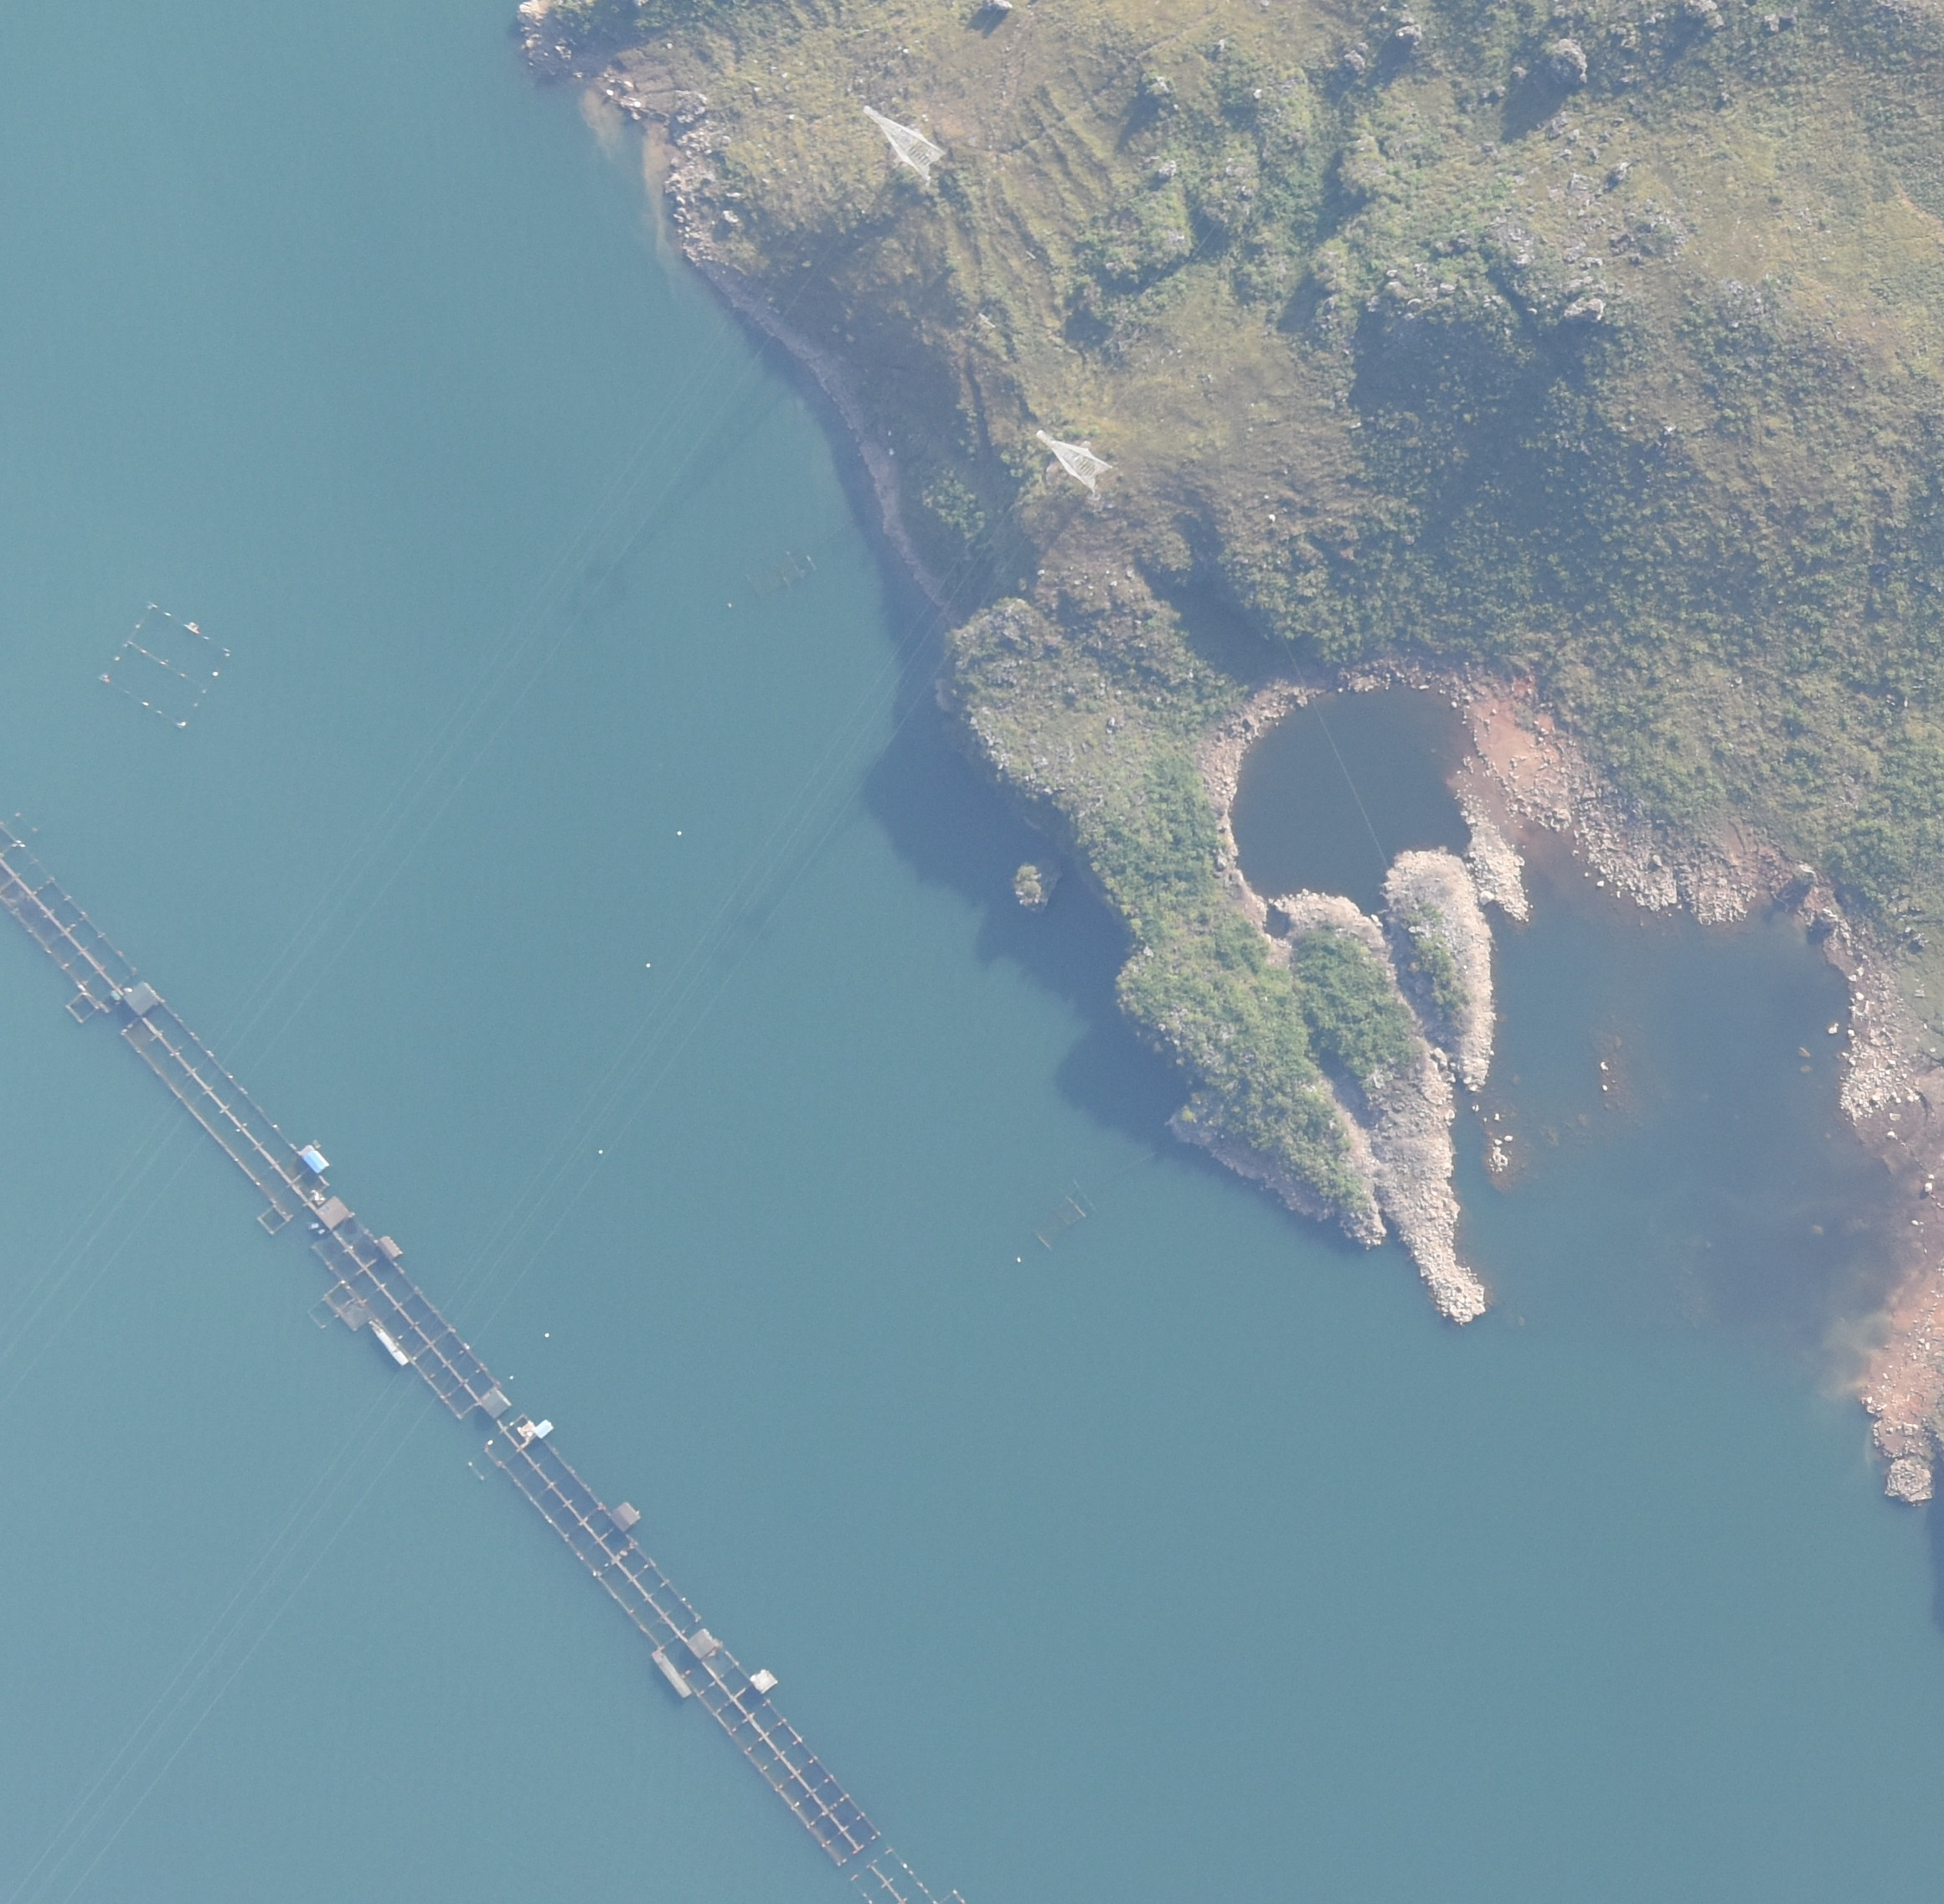cable-tower: (861, 103, 946, 192), (1034, 426, 1114, 495)
cultivation-mesh-cage: (682, 1652, 982, 1904), (468, 1417, 696, 1649), (122, 998, 326, 1235), (309, 1220, 498, 1426), (1, 820, 135, 1021), (98, 596, 232, 730), (732, 540, 829, 604), (1026, 1192, 1100, 1251)
pool: (1183, 660, 1525, 915)
prefabricated-house: (121, 982, 158, 1019), (317, 1195, 347, 1231), (609, 1500, 640, 1534), (297, 1143, 329, 1174), (479, 1388, 512, 1417), (749, 1666, 781, 1695), (688, 1629, 717, 1659), (374, 1235, 403, 1260), (533, 1420, 554, 1442)
ship: (650, 1649, 693, 1700), (367, 1319, 410, 1369)
